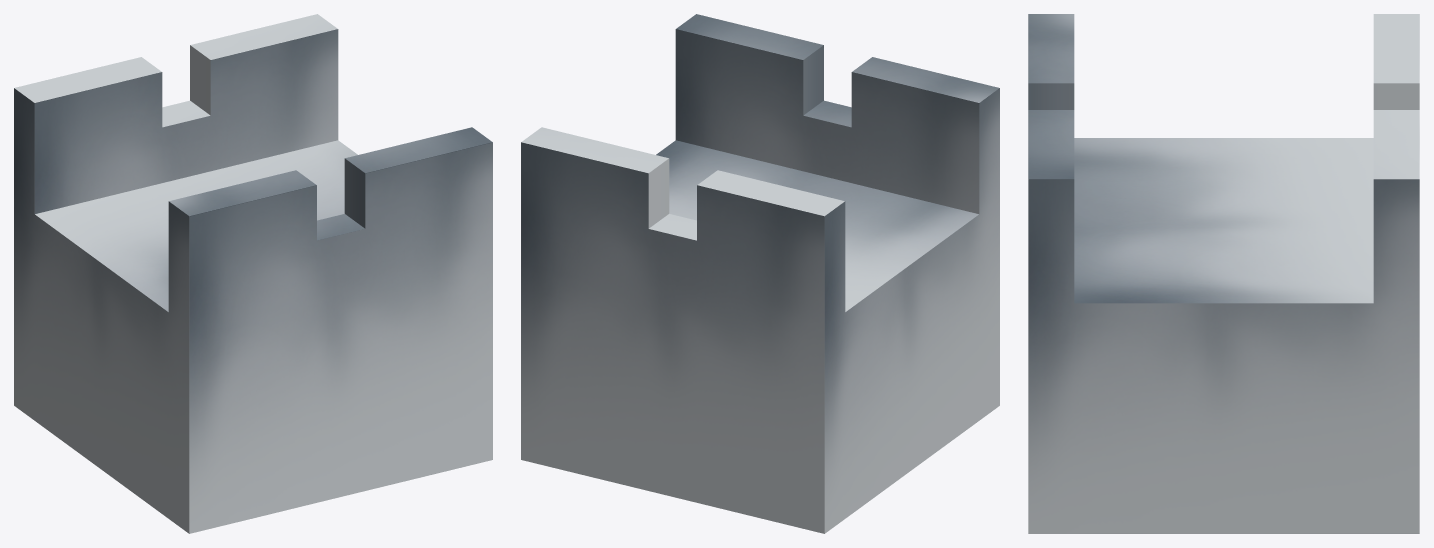
File: Wall Variant A2.fbx
3 views of the same model, side by side, from view 1: azimuth 30°, elevation 25°; view 2: azimuth 150°, elevation 25°; view 3: azimuth 270°, elevation 25° (orthographic). The views are drawn at different scales.
Visible parts, largest first — view 1: Plane008; view 2: Plane008; view 3: Plane008.
Part boxes in pixels (<box>): Plane008: <box>14,14,492,533</box>; Plane008: <box>521,14,999,533</box>; Plane008: <box>1028,14,1419,533</box>.
Bounding box in the file's own units: 39.37 × 39.37 × 39.37.
1 material, 1 textured.
